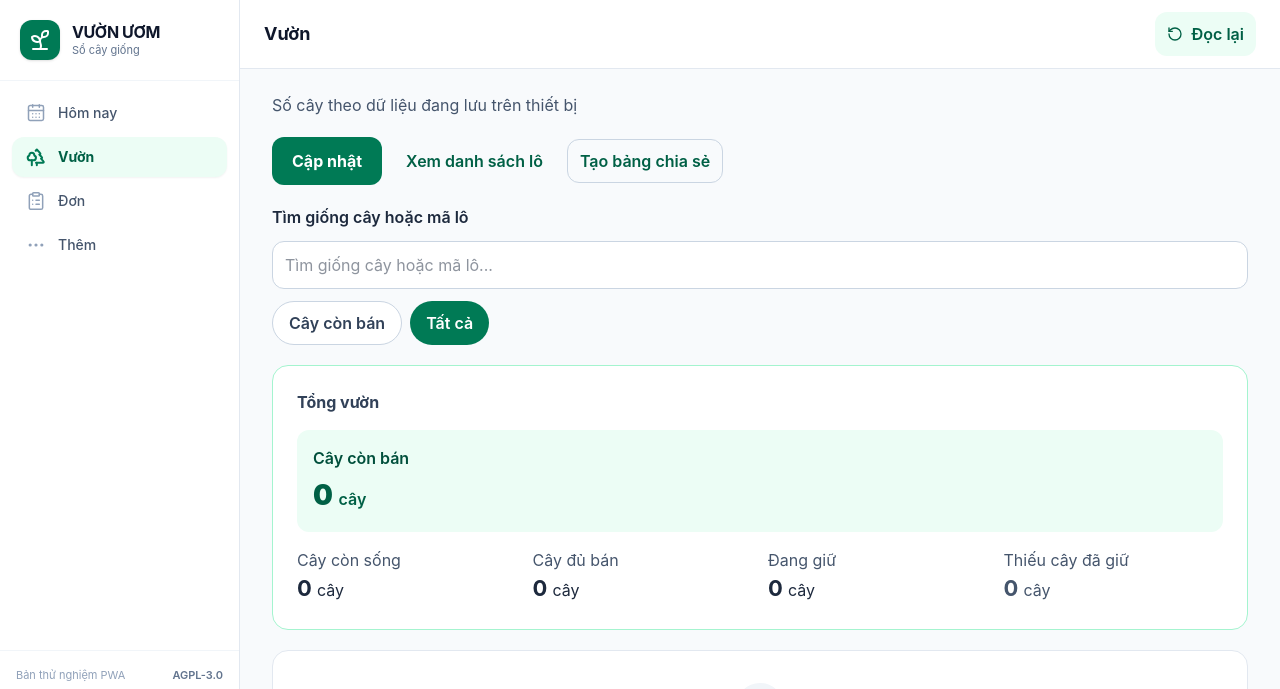
Test: V2-A3 quick update composition (real Dexie) › empty picker still opens existing new-batch flow and preserves Garden return context
Check: the element "Tổng vườn" is shown, box [272,365,1248,630]
Click the button "Cập nhật": click(327, 161) [272,137,382,185]
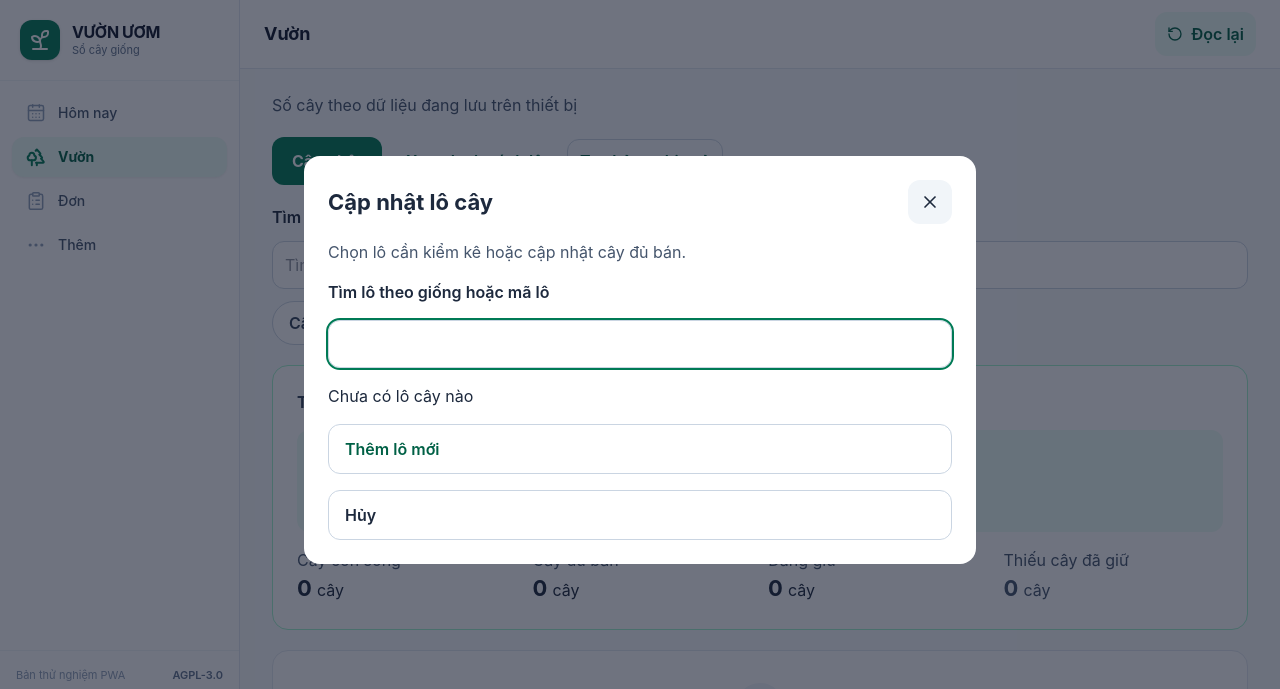
Check: the text "Chưa có lô cây nào" is shown, box [328,386,473,406]
Click the button "Thêm lô mới": click(392, 449) [328,424,952,474]
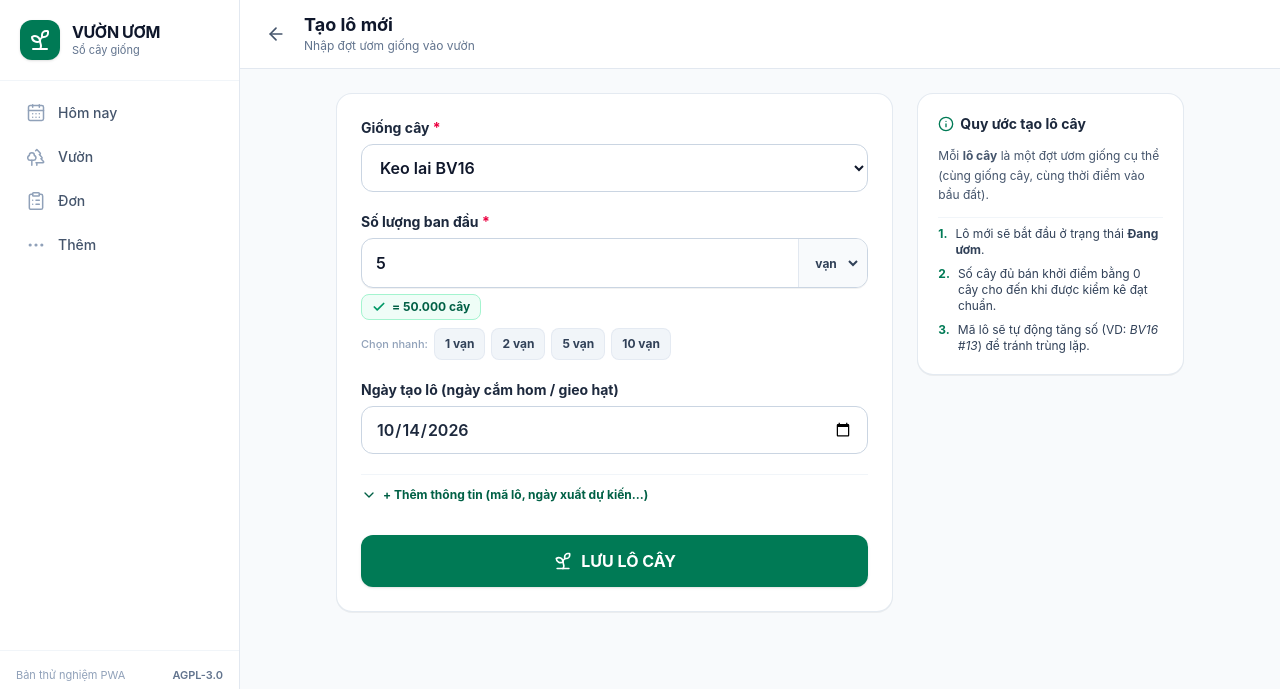
Check: the heading "Tạo lô mới" is shown, box [304,14,393,35]
Click the button "LƯU LÔ CÂY": click(615, 561) [361,535,868,587]
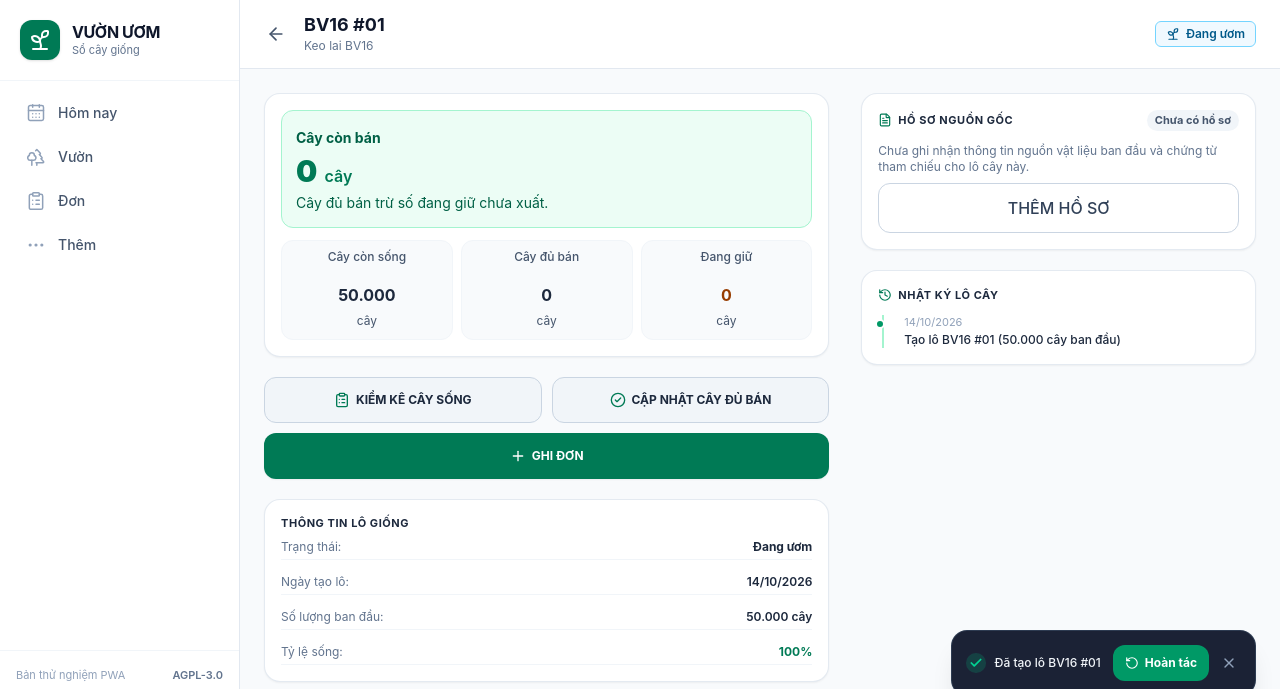
Check: the button "KIỂM KÊ CÂY SỐNG" is shown, box [264,377,542,423]
Click the button named "Quay lại": click(276, 34) [256,14,296,54]
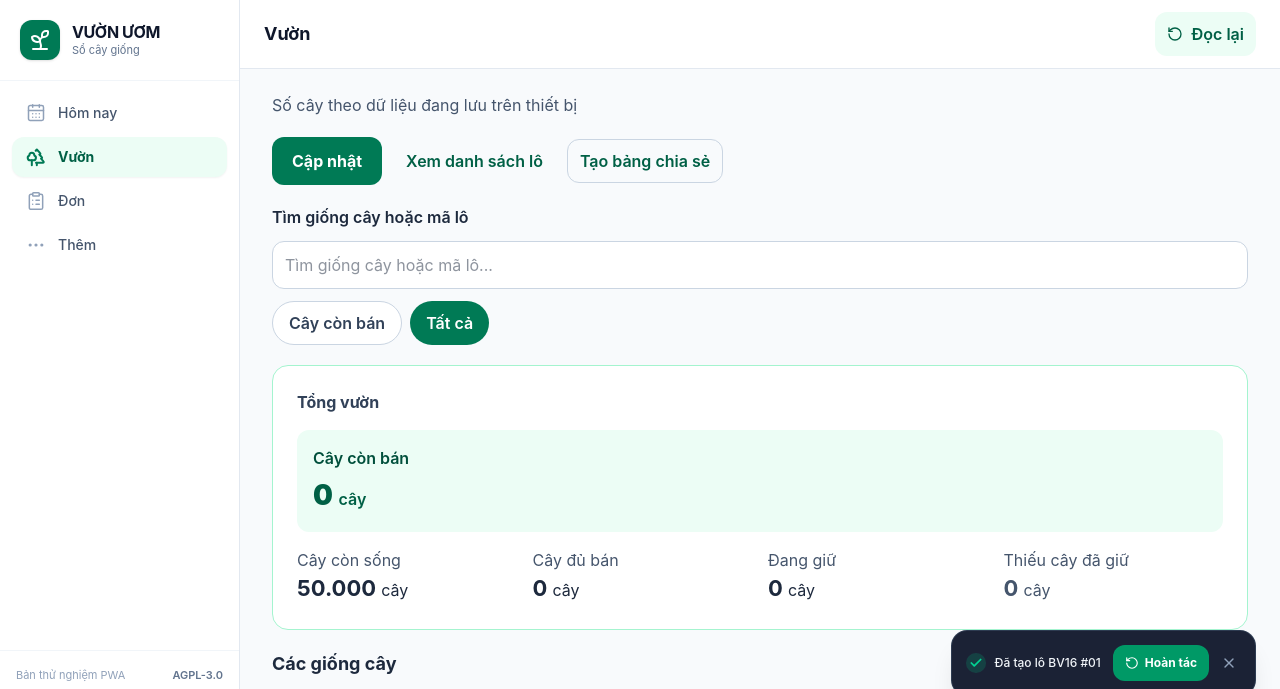
Check: the element "Tổng vườn" is shown, box [272,365,1248,630]
